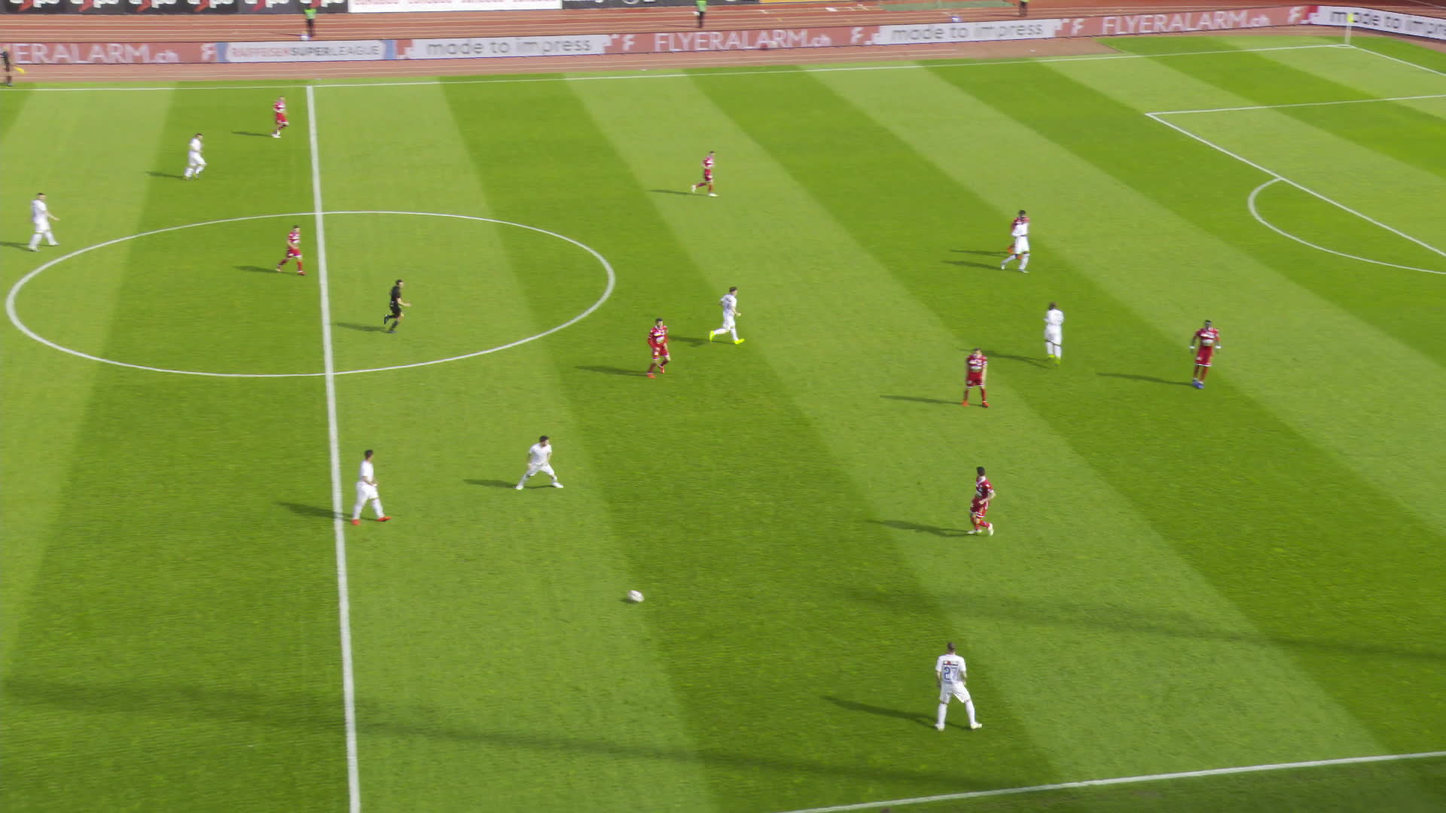ball: (628, 591, 642, 602)
player: (933, 638, 981, 732), (352, 447, 390, 525), (517, 434, 564, 492), (966, 465, 998, 540), (1188, 320, 1223, 388), (709, 287, 744, 348), (960, 346, 992, 408), (29, 191, 61, 252), (1002, 216, 1030, 276), (645, 316, 671, 379), (1042, 302, 1066, 367), (277, 224, 306, 276), (692, 150, 719, 196), (184, 132, 207, 181), (1008, 209, 1030, 259), (272, 95, 290, 139)
referee: (381, 276, 409, 335), (4, 49, 21, 87)
